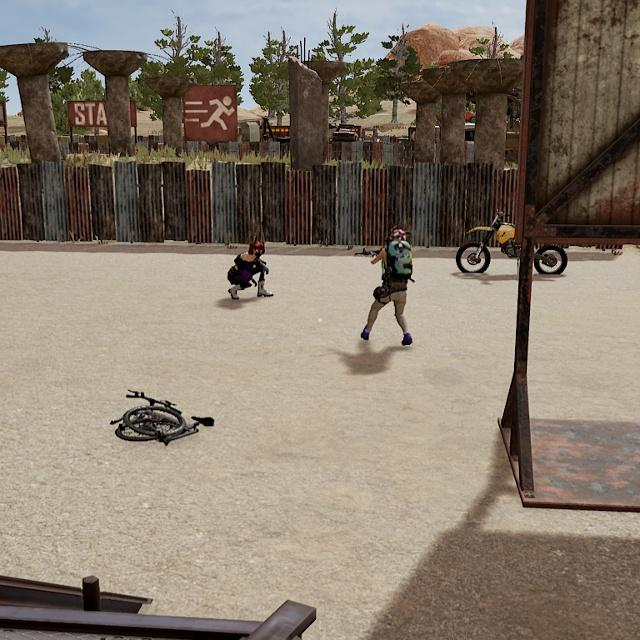head: (388, 226, 407, 245), (250, 240, 265, 259)
people: (361, 226, 414, 348), (226, 239, 274, 303)
